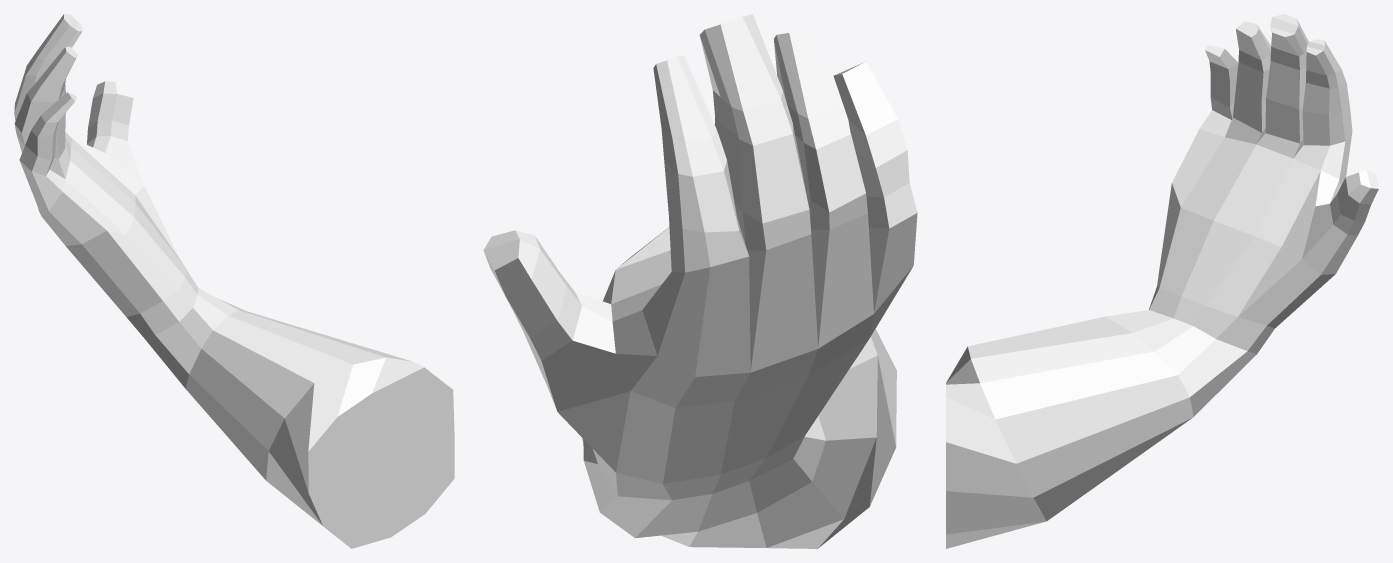
File: venice_statue_1_1.fbx
3 renders of one model, left to right at view 1: azimuth 30°, elevation 25°; view 2: azimuth 150°, elevation 25°; view 3: azimuth 270°, elevation 25°, orthographic. The views are drawn at different scales.
Visible parts, largest first — view 1: Cube.270; view 2: Cube.270; view 3: Cube.270.
Boxes of the visible parts, x1,y1,x2,y2 form: Cube.270: (14, 14, 454, 548); Cube.270: (483, 14, 917, 548); Cube.270: (946, 14, 1378, 548).
Size of the model in its own units: 399 by 578 by 500.
